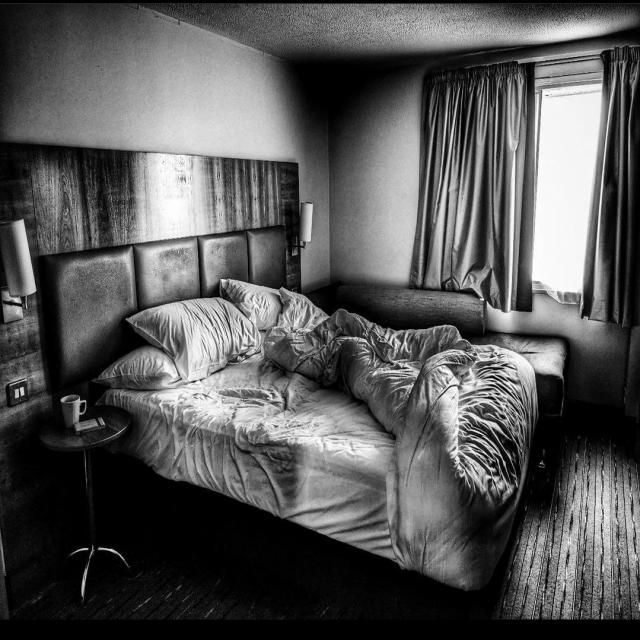bed: (90, 256, 544, 569)
